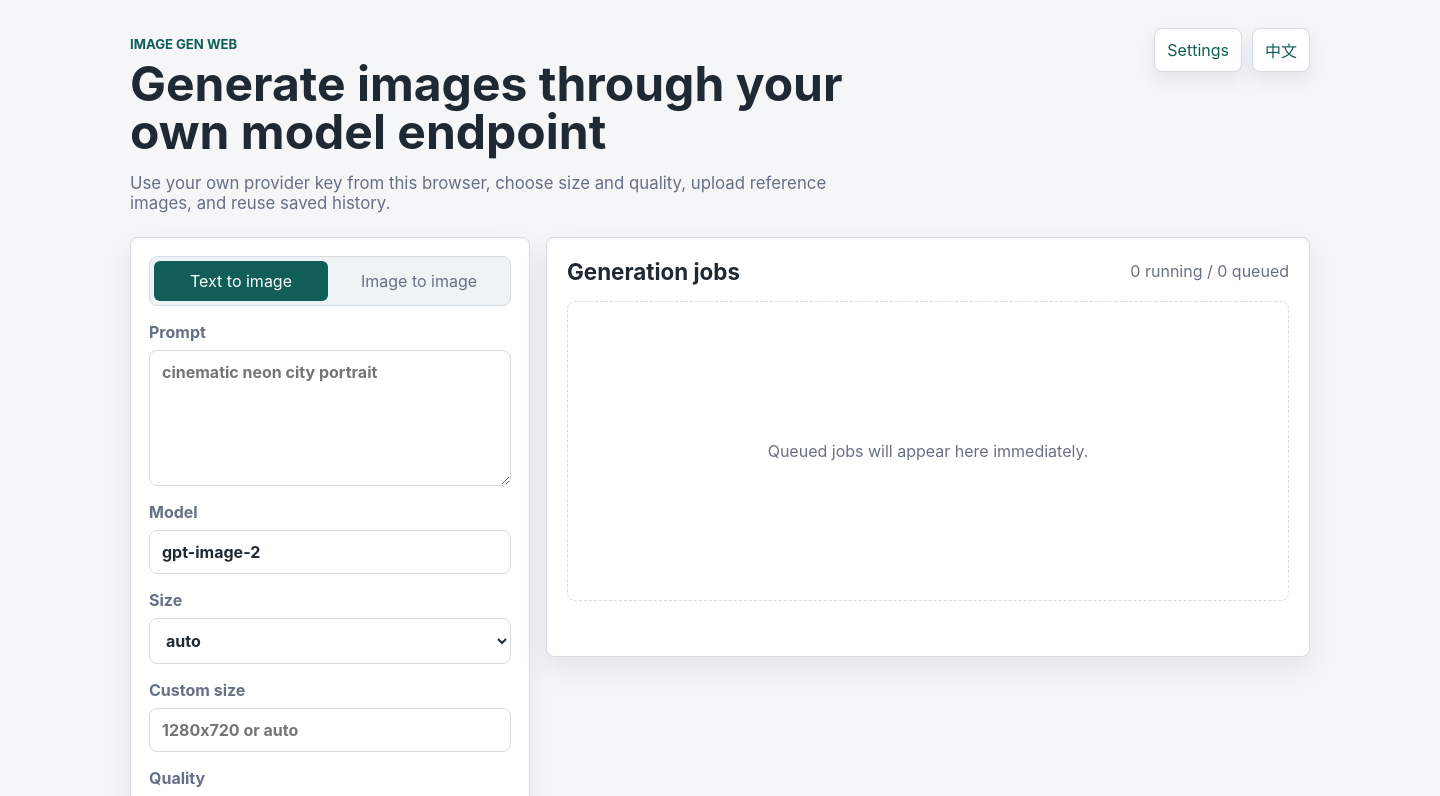
App › switches the interface to Simplified Chinese
The width and height of the screenshot is (1440, 796).
Click the button with aria-label "Switch language to Simplified Chinese" at (1281, 50), box left=1252, top=28, right=1310, bottom=72
(page scrolled)
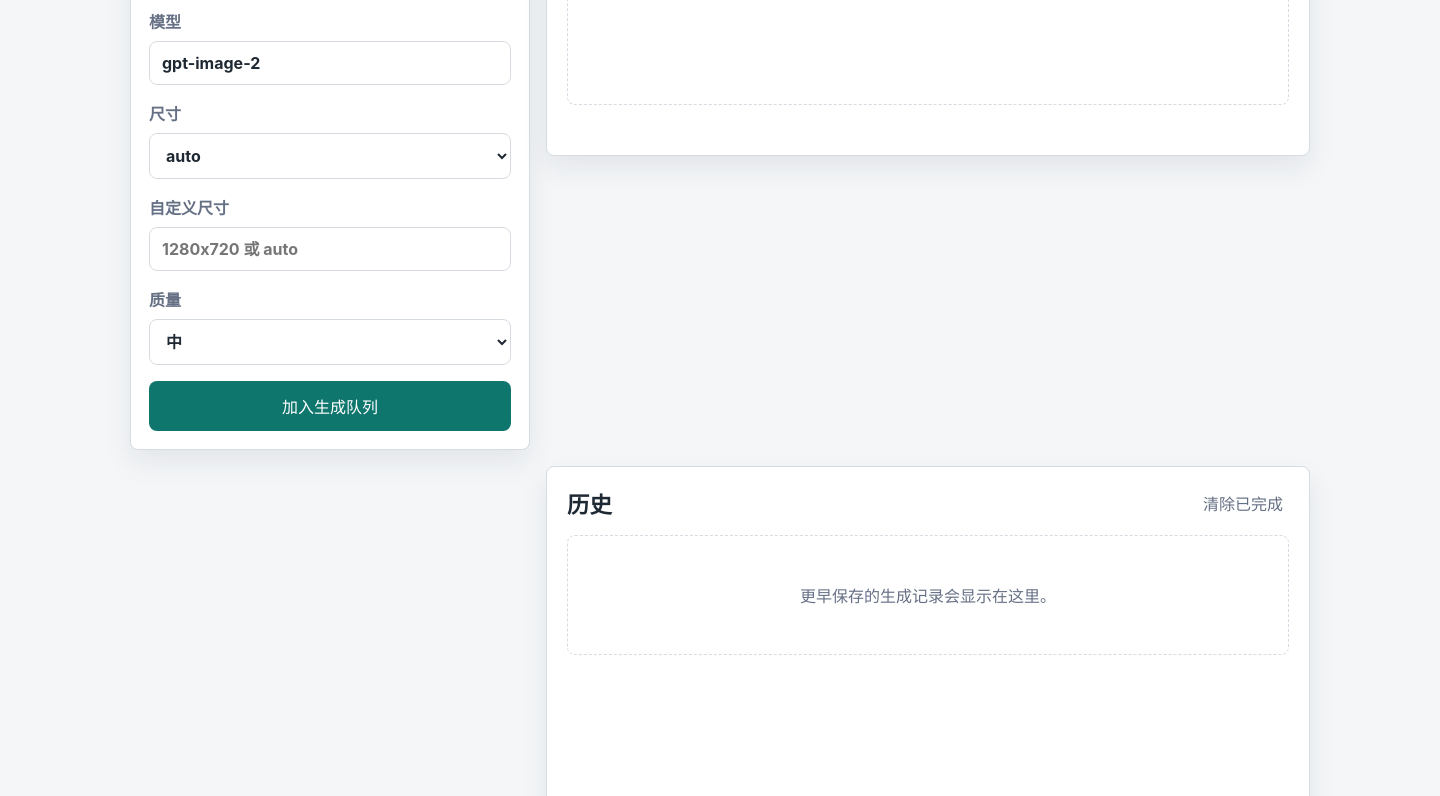
Result: the button "加入生成队列" is shown at left=149, top=381, right=511, bottom=431
